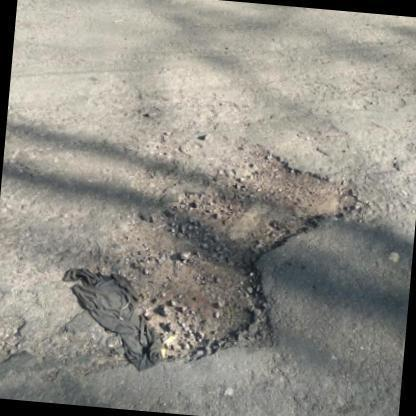pothole: (104, 136, 364, 366), (0, 314, 32, 362)
